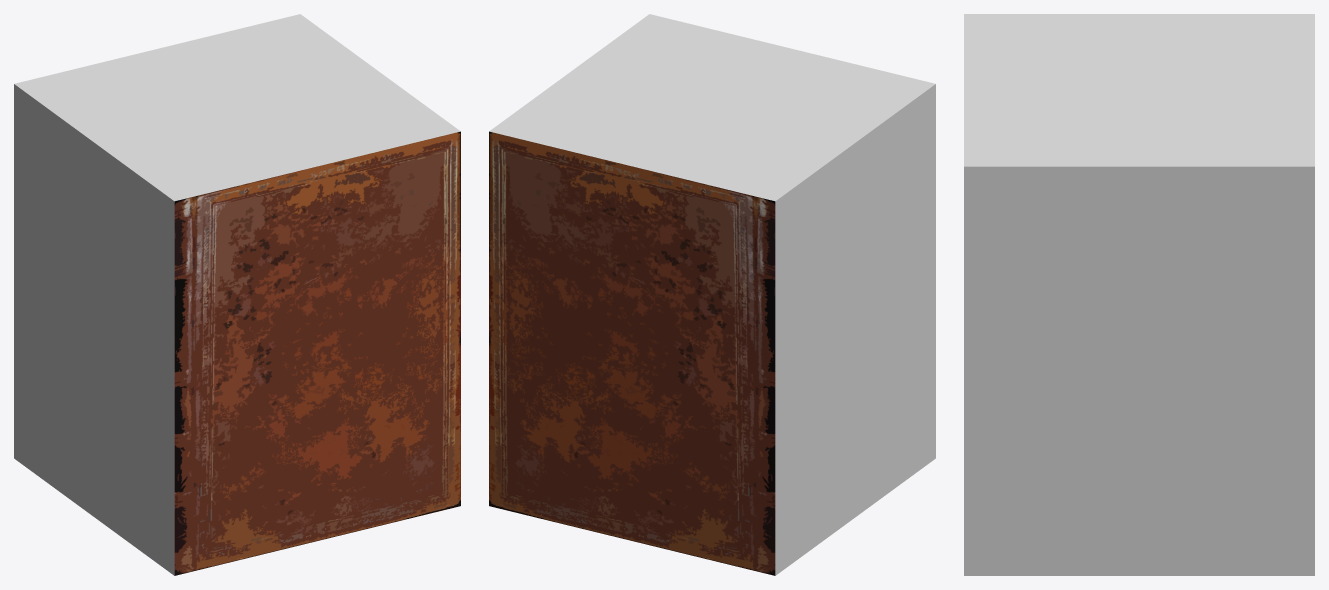
The model's file is bookpile_m2alpha.fbx.
3 views of the same model, side by side, from view 1: azimuth 30°, elevation 25°; view 2: azimuth 150°, elevation 25°; view 3: azimuth 270°, elevation 25° (orthographic). The views are drawn at different scales.
Visible parts, largest first — view 1: BookPile2; view 2: BookPile2; view 3: BookPile2.
Part boxes in pixels (<box>): BookPile2: <box>14,14,460,575</box>; BookPile2: <box>489,14,935,575</box>; BookPile2: <box>964,14,1314,575</box>.
Bounding box in the file's own units: 0.4 × 0.5 × 0.3883.
